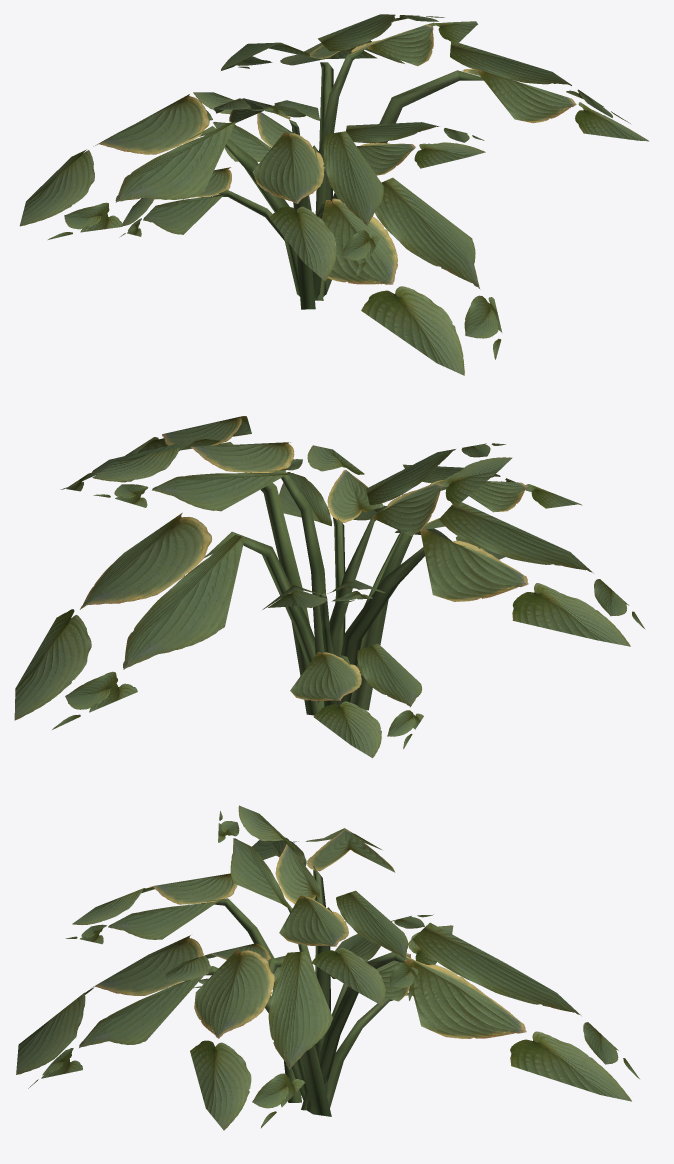
Rendered from plant2.obj.
3 renders of one model, top to bottom at view 1: azimuth 30°, elevation 25°; view 2: azimuth 150°, elevation 25°; view 3: azimuth 270°, elevation 25°, orthographic. The views are drawn at different scales.
Parts seen in each view (by area): view 1: plant:small_plant_01; view 2: plant:small_plant_01; view 3: plant:small_plant_01.
Boxes of the visible parts, x1,y1,x2,y2 form: plant:small_plant_01: (19,14,649,375); plant:small_plant_01: (14,416,645,758); plant:small_plant_01: (16,805,639,1130).
Size of the model in its own units: 1.98 by 0.7813 by 1.86.
1 material, 1 textured.
